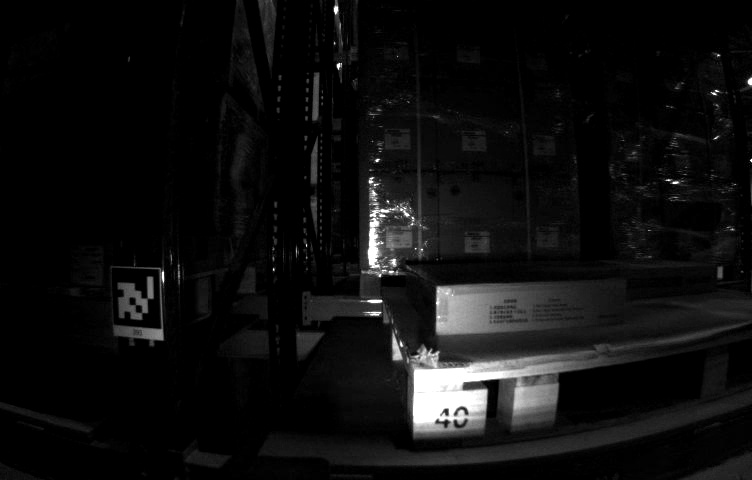True Barcode: (68, 247, 102, 285)
